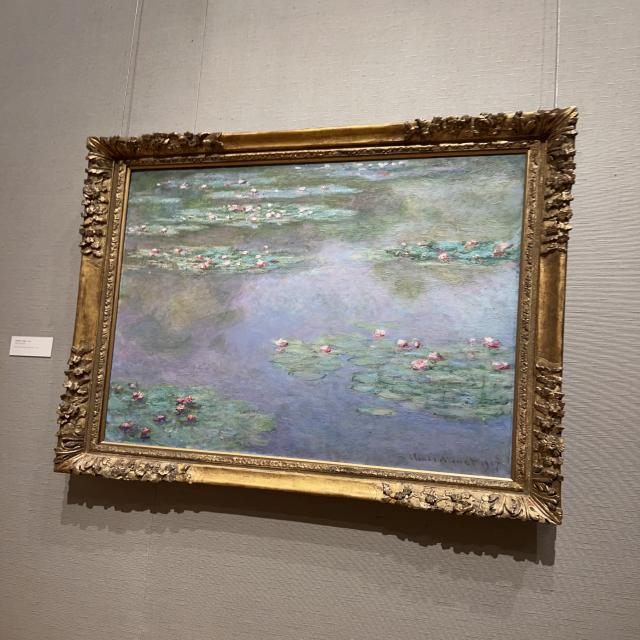lilies: (107, 157, 524, 475)
